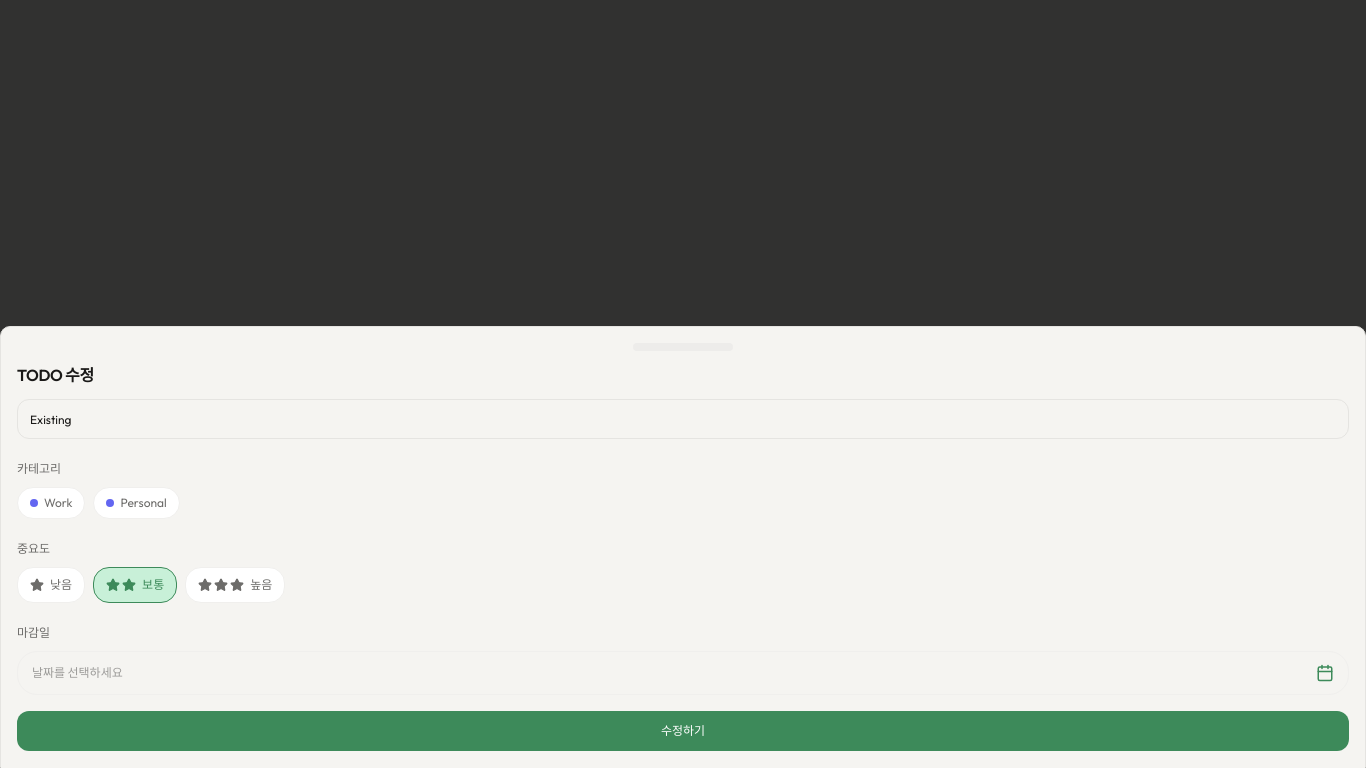
Test: TodoEditModal › Submission › 제목이 비어있으면 수정하기 버튼이 비활성화되어야 한다
Step 1. Clear the field with placeholder "할 일을 입력하세요" → (683, 419), box [17, 399, 1349, 439]
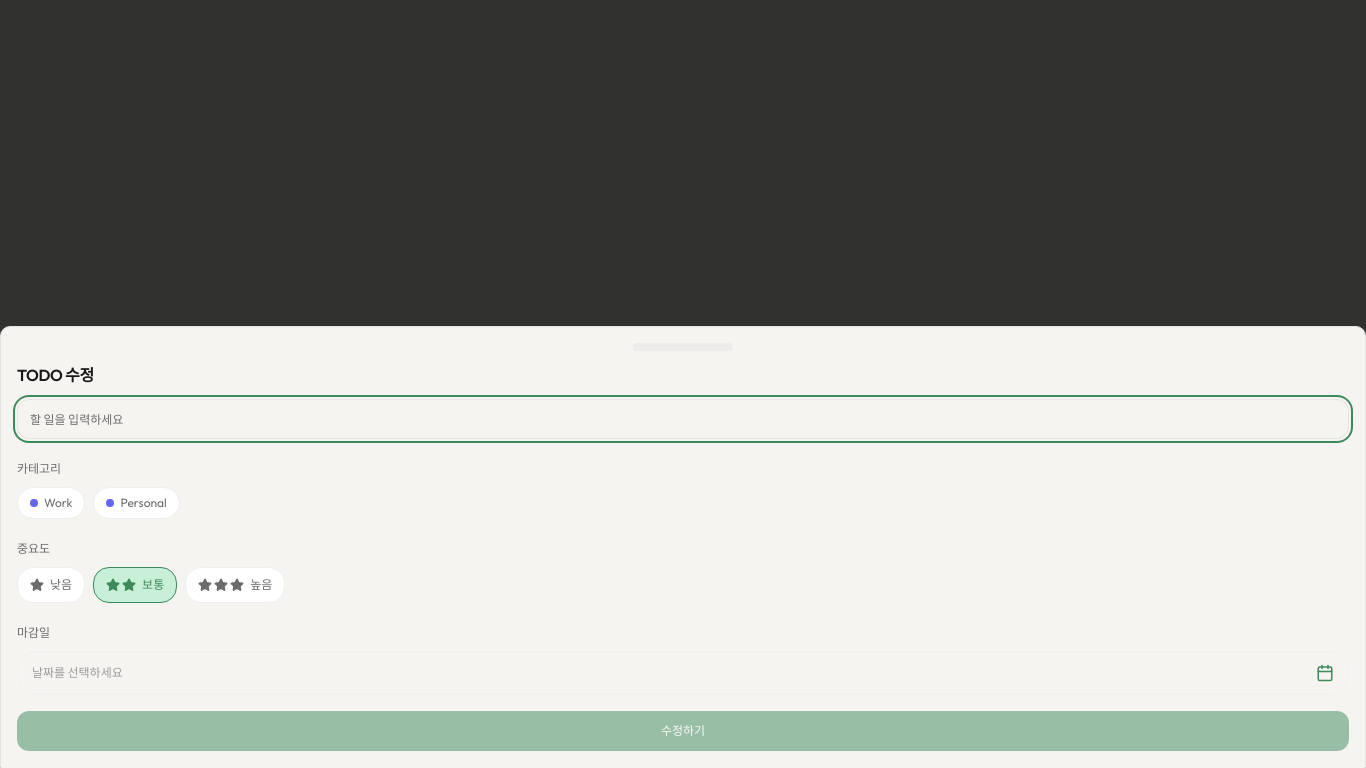
Now the button "수정하기" is disabled, box [17, 711, 1349, 751]
